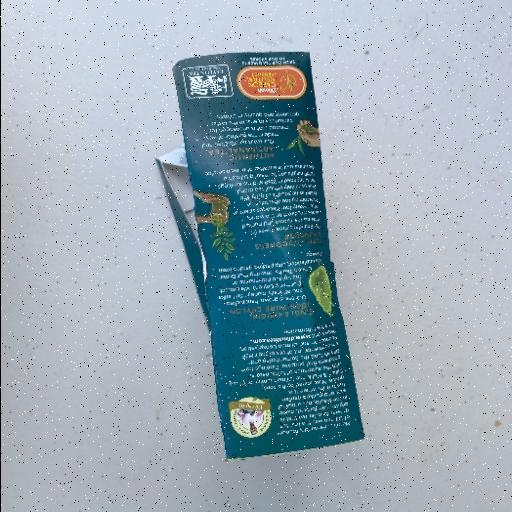Cardboard: (162, 48, 366, 462)
